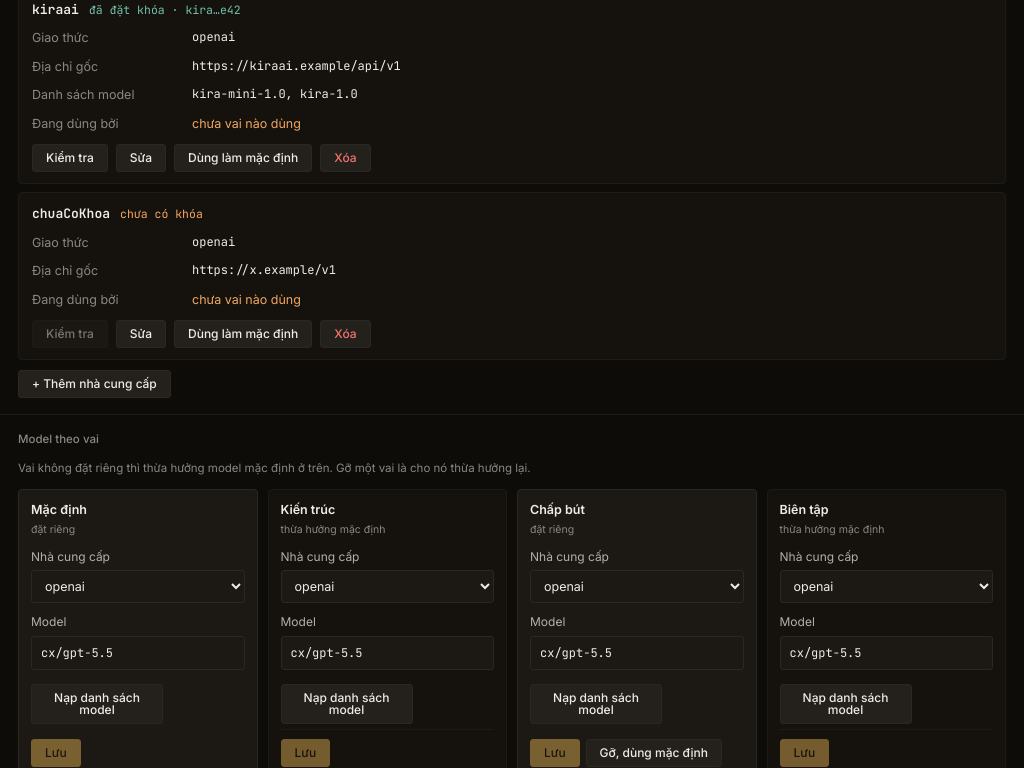
Test case: gõ trùng tên một thẻ đã có thì KHÔNG lưu đè được
(page scrolled)
Click the button "+ Thêm nhà cung cấp" at (94,384), box [18,370,171,398]
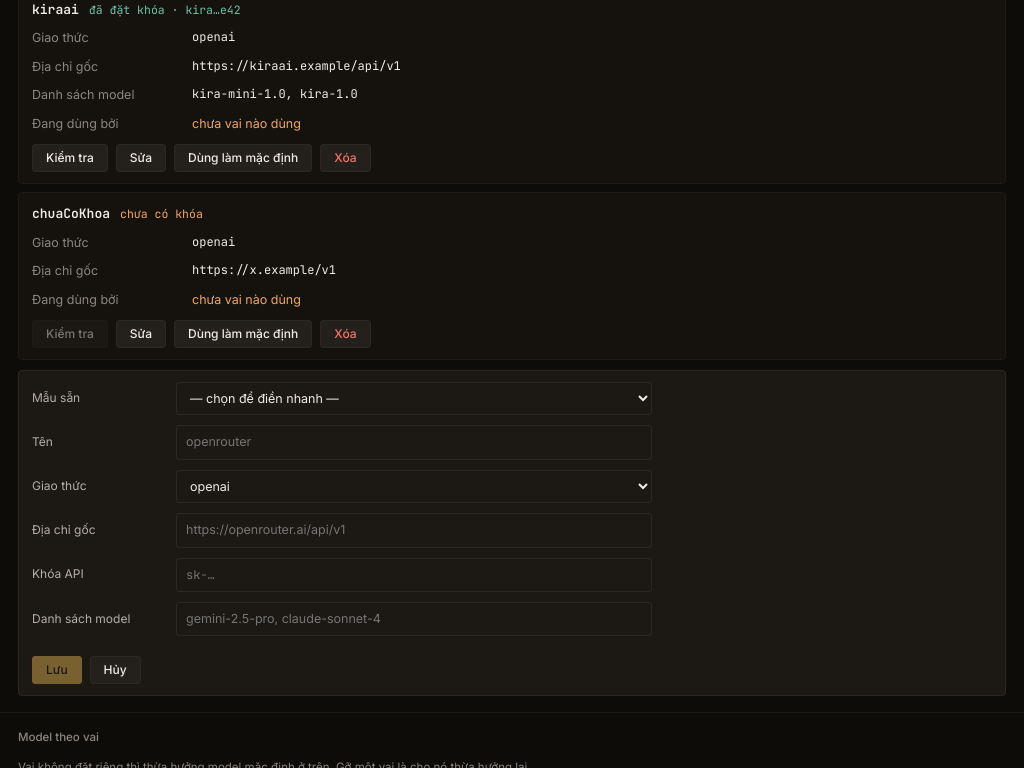
Type "openai" into the field with placeholder "openrouter" at (414,443), box [176,425,652,460]
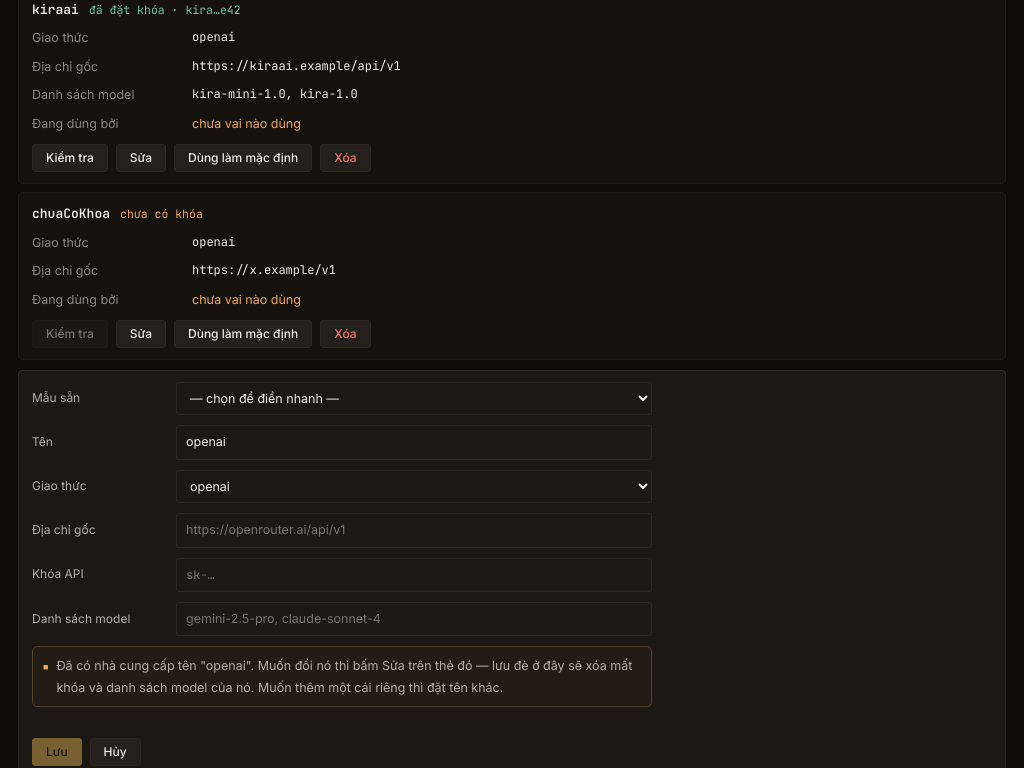
Expected: the button "Lưu" is disabled, [32,738,82,766]
Expected: the form shows "Đã có nhà cung cấp tên \"openai\"", [56,658,632,695]
Expected: the form shows "bấm Sửa", [56,658,632,695]
